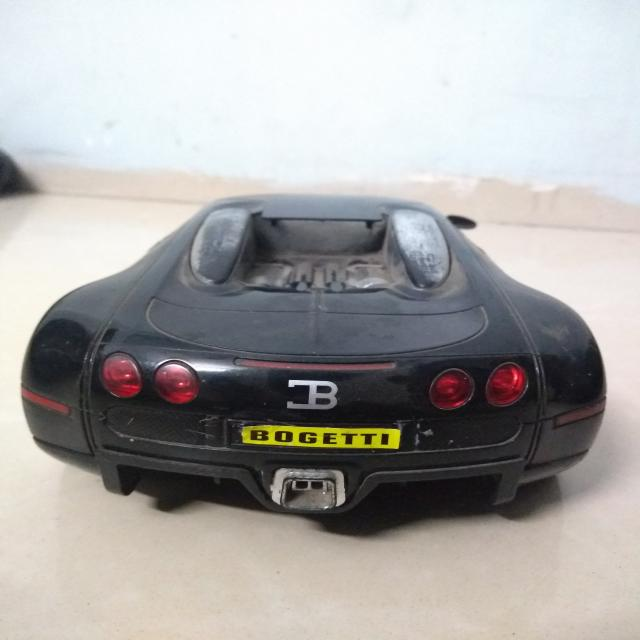Number-Plate: (246, 419, 406, 454)
